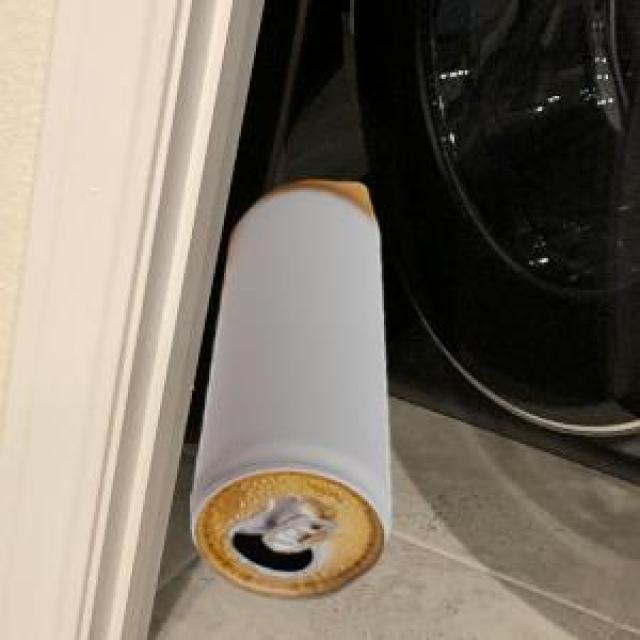logam: (187, 178, 387, 596)
